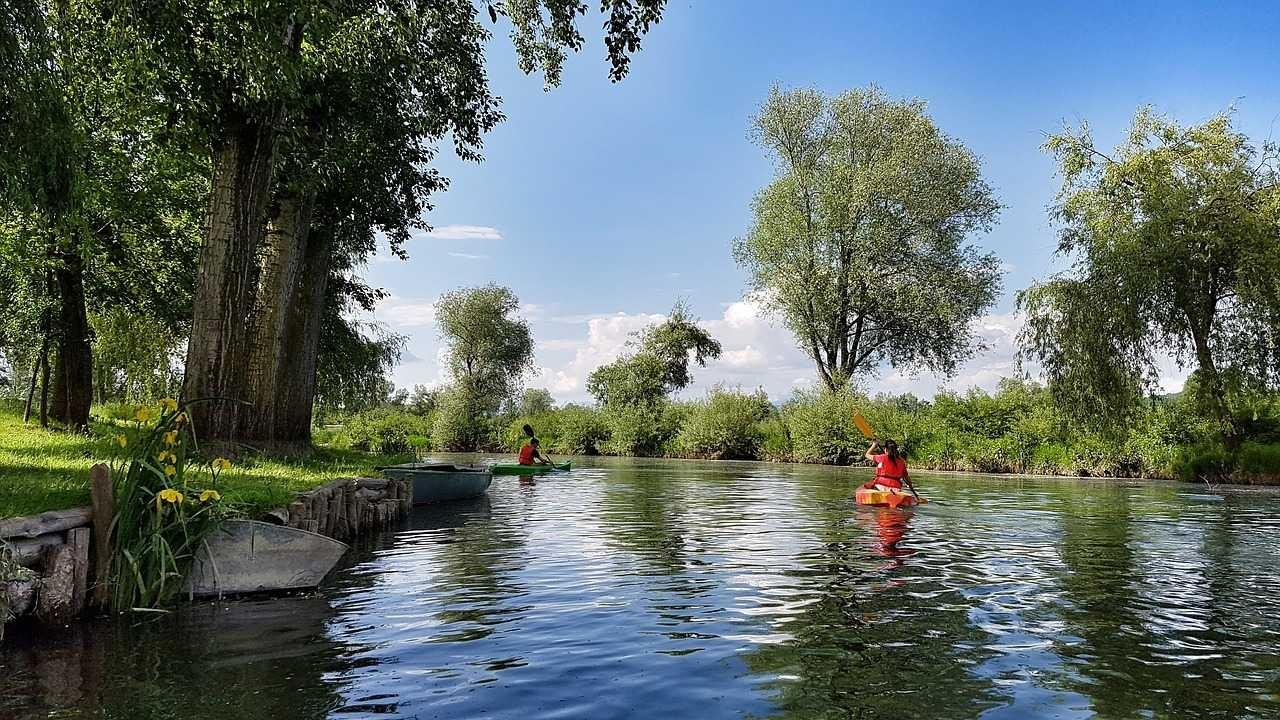kayak: (382, 462, 493, 506), (853, 485, 924, 507), (484, 459, 567, 476)
